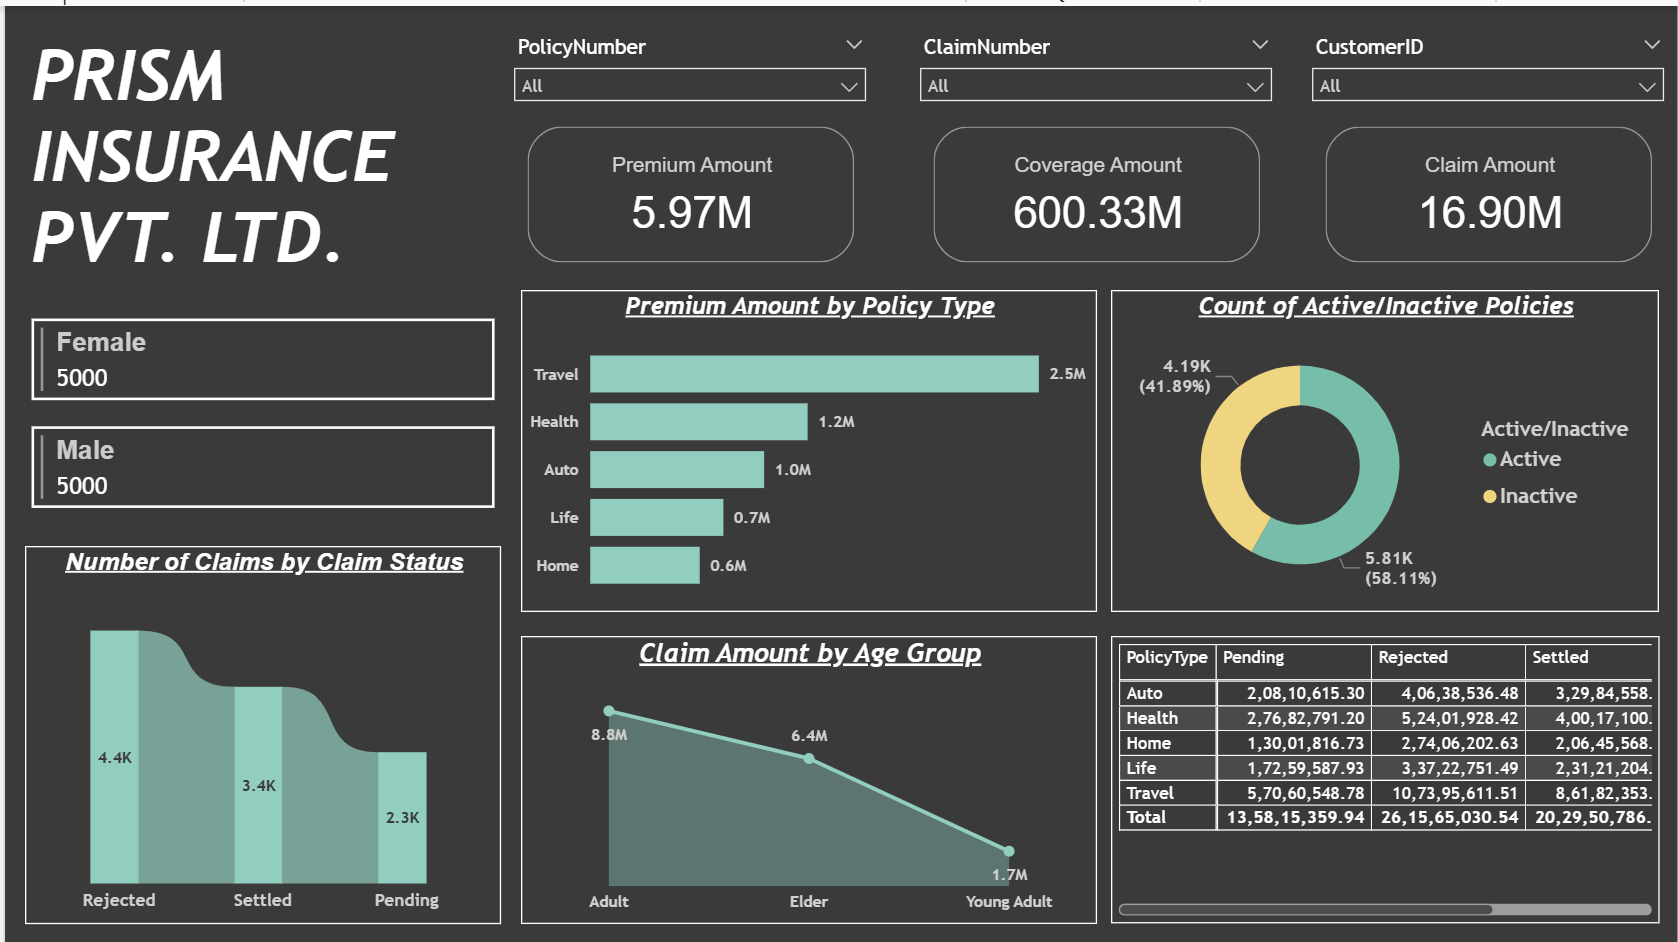

The dashboard page shown, as its layout file describes it:
{"tool":"powerbi","page":{"name":"Page 1","canvas":[1280,720],"ordinal":0},"visuals":[{"type":"slicer","fields":{"Values":["InsuranceData.PolicyNumber"]},"box":[379.7,16.8,289.4,85.7],"z":0},{"type":"slicer","fields":{"Values":["InsuranceData.ClaimNumber"]},"box":[690.5,16.8,289.4,85.7],"z":1000},{"type":"slicer","fields":{"Values":["InsuranceData.CustomerID"]},"box":[990.6,16.8,289.4,85.7],"z":2000},{"type":"textbox","box":[15.3,16.8,364.4,200.6],"z":3000},{"type":"cardVisual","fields":{"Data":["Sum(InsuranceData.PremiumAmount)"]},"box":[395,87.3,260.3,114.8],"z":4000},{"type":"cardVisual","fields":{"Data":["Sum(InsuranceData.CoverageAmount)"]},"box":[705.8,87.3,260.3,114.8],"z":5000},{"type":"cardVisual","fields":{"Data":["Sum(InsuranceData.ClaimAmount)"]},"box":[1005.9,87.3,260.3,114.8],"z":6000},{"type":"multiRowCard","fields":{"Values":["InsuranceData.Gender","CountNonNull(InsuranceData.Gender)"]},"box":[15.3,234.3,364.4,179.1],"z":7000},{"type":"ribbonChart","title":"Number of Claims by Claim Status","fields":{"Category":["InsuranceData.ClaimStatus"],"Y":["CountNonNull(InsuranceData.ClaimStatus)"]},"box":[15.3,413.4,364.4,289.4],"z":8000},{"type":"barChart","title":"Premium Amount by Policy Type","fields":{"Category":["InsuranceData.PolicyType"],"Y":["Sum(InsuranceData.PremiumAmount)"]},"box":[395,217.4,441,246.5],"z":9000},{"type":"lineChart","title":"Claim Amount by Age Group","fields":{"Category":["InsuranceData.Age Group"],"Y":["Sum(InsuranceData.ClaimAmount)"]},"box":[395,482.3,441,220.5],"z":10000},{"type":"donutChart","title":"Count of Active/Inactive Policies","fields":{"Category":["InsuranceData.Active/Inactive"],"Y":["CountNonNull(InsuranceData.Active/Inactive)"]},"box":[846.7,217.4,419.5,246.5],"z":11000},{"type":"pivotTable","fields":{"Values":["Sum(InsuranceData.CoverageAmount)"],"Rows":["InsuranceData.PolicyType"],"Columns":["InsuranceData.ClaimStatus"]},"box":[847,482,420,220],"z":12000}]}

Visuals, with their boxes in screenshot pixels (x1, y1, x2, y2), scaled from the page's 1280x720 canvas onto the 1678x942 screenshot:
slicer - InsuranceData.PolicyNumber: 498, 22, 877, 134
slicer - InsuranceData.ClaimNumber: 905, 22, 1285, 134
slicer - InsuranceData.CustomerID: 1299, 22, 1677, 134
textbox: 20, 22, 498, 284
cardVisual - Sum(InsuranceData.PremiumAmount): 518, 114, 859, 264
cardVisual - Sum(InsuranceData.CoverageAmount): 925, 114, 1266, 264
cardVisual - Sum(InsuranceData.ClaimAmount): 1319, 114, 1660, 264
multiRowCard - InsuranceData.Gender x CountNonNull(InsuranceData.Gender): 20, 307, 498, 541
"Number of Claims by Claim Status" ribbonChart: 20, 541, 498, 919
"Premium Amount by Policy Type" barChart: 518, 284, 1096, 607
"Claim Amount by Age Group" lineChart: 518, 631, 1096, 919
"Count of Active/Inactive Policies" donutChart: 1110, 284, 1660, 607
pivotTable - Sum(InsuranceData.CoverageAmount) x InsuranceData.PolicyType: 1110, 631, 1661, 918
